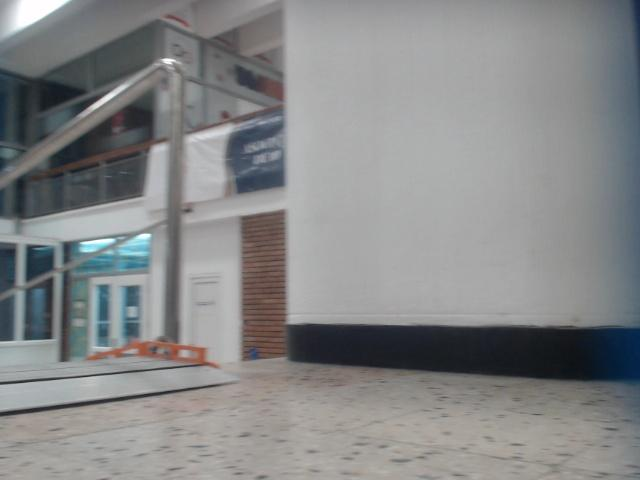rampDown: (0, 336, 241, 414)
ramps-railing: (0, 55, 186, 342)
